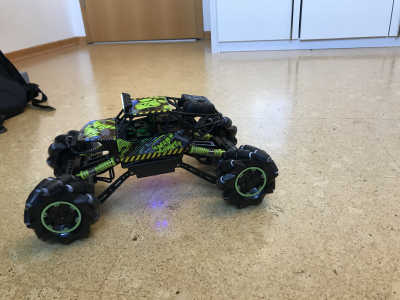remote control car: (20, 89, 282, 249)
